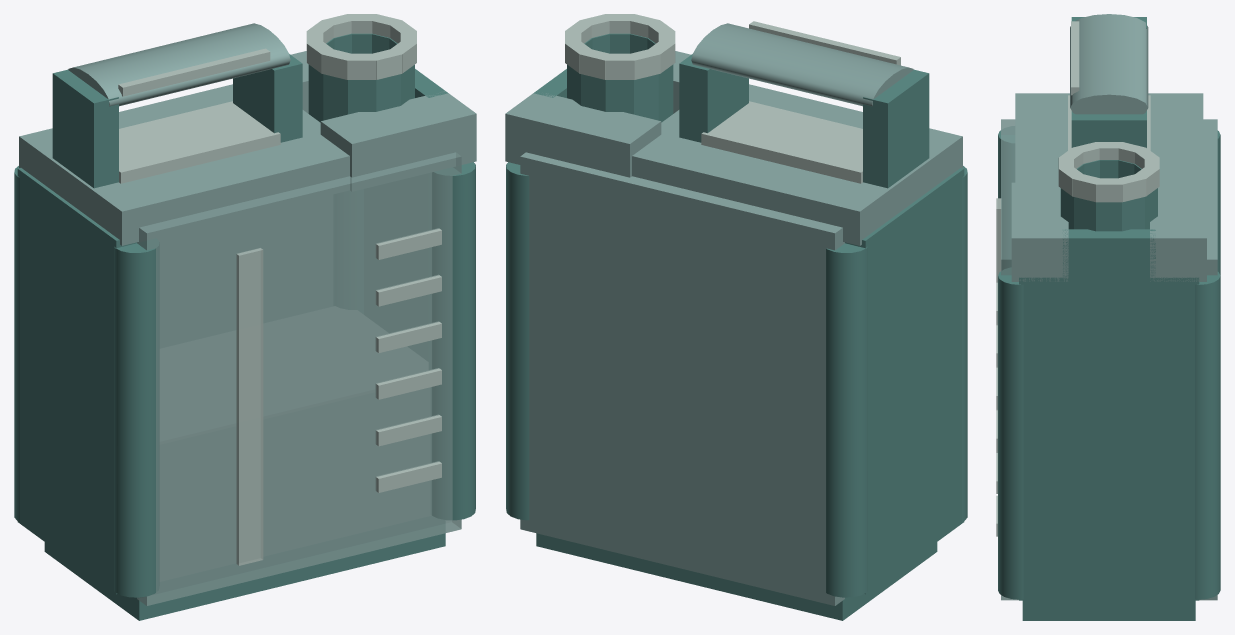
The model's file is CMU3DReagentJugFill2StudyCloud.glb.
The picture shows the model from 3 angles, left to right: view 1: azimuth 30°, elevation 25°; view 2: azimuth 150°, elevation 25°; view 3: azimuth 270°, elevation 25°; orthographic projection. The views are drawn at different scales.
Visible parts, largest first — view 1: front translucent jug wall, left molded jug wall, rounded canister corner (×3), jug shoulder left deck, jug shoulder front around spout, front vertical molding, handle inner lower ledge, handle rounded bridge, handle left upright, closed molded jug floor, handle right upright, handle top glint (+13 smaller); view 2: back molded jug wall, left molded jug wall, rounded canister corner (×3), jug shoulder left deck, handle rounded bridge, jug shoulder rear around spout, handle inner lower ledge, handle left upright, closed molded jug floor, handle right upright, handle top glint, hollow pouring neck 06 (+6 smaller); view 3: right molded jug wall, rounded canister corner (×4), jug shoulder left deck, handle rounded bridge, jug shoulder front around spout, jug shoulder rear around spout, jug shoulder right around spout, closed molded jug floor, handle right upright, back molded jug wall, front translucent jug wall, hollow pouring neck 01 (+16 smaller).
Boxes of the visible parts, <box> form: front translucent jug wall: <box>137,152,461,605</box>; left molded jug wall: <box>17,168,137,594</box>; rounded canister corner (×3): <box>14,162,475,597</box>; jug shoulder left deck: <box>19,84,349,245</box>; jug shoulder front around spout: <box>320,91,476,191</box>; front vertical molding: <box>236,248,263,565</box>; handle inner lower ledge: <box>119,101,280,183</box>; handle rounded bridge: <box>68,23,290,106</box>; handle left upright: <box>52,69,118,188</box>; closed molded jug floor: <box>44,533,445,620</box>; handle right upright: <box>233,54,302,142</box>; handle top glint: <box>118,48,270,96</box>; back molded jug wall: <box>520,152,844,605</box>; left molded jug wall: <box>845,168,964,594</box>; rounded canister corner (×3): <box>506,162,967,597</box>; jug shoulder left deck: <box>632,84,962,245</box>; handle rounded bridge: <box>691,23,913,106</box>; jug shoulder rear around spout: <box>505,93,661,177</box>; handle inner lower ledge: <box>701,101,862,183</box>; handle left upright: <box>863,69,929,188</box>; closed molded jug floor: <box>536,533,937,620</box>; handle right upright: <box>679,54,748,142</box>; handle top glint: <box>749,21,900,65</box>; hollow pouring neck 06: <box>634,74,658,120</box>; right molded jug wall: <box>1019,277,1199,600</box>; rounded canister corner (×4): <box>998,130,1220,599</box>; jug shoulder left deck: <box>1015,93,1203,182</box>; handle rounded bridge: <box>1070,14,1148,114</box>; jug shoulder front around spout: <box>1011,182,1068,281</box>; jug shoulder rear around spout: <box>1150,182,1206,281</box>; jug shoulder right around spout: <box>1062,229,1155,281</box>; closed molded jug floor: <box>1022,600,1195,620</box>; handle right upright: <box>1071,111,1146,147</box>; back molded jug wall: <box>1199,119,1217,600</box>; front translucent jug wall: <box>1001,119,1018,600</box>; hollow pouring neck 01: <box>1096,202,1121,231</box>.
Bounding box in the file's own units: 0.502 × 0.688 × 0.298.
